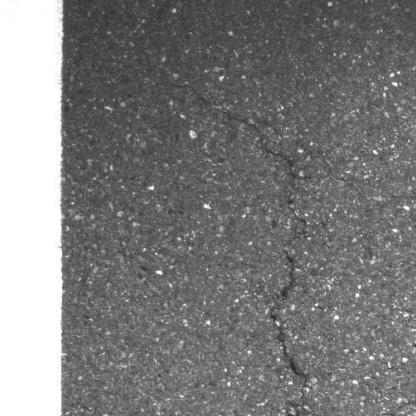Cracks: (165, 78, 313, 416)
